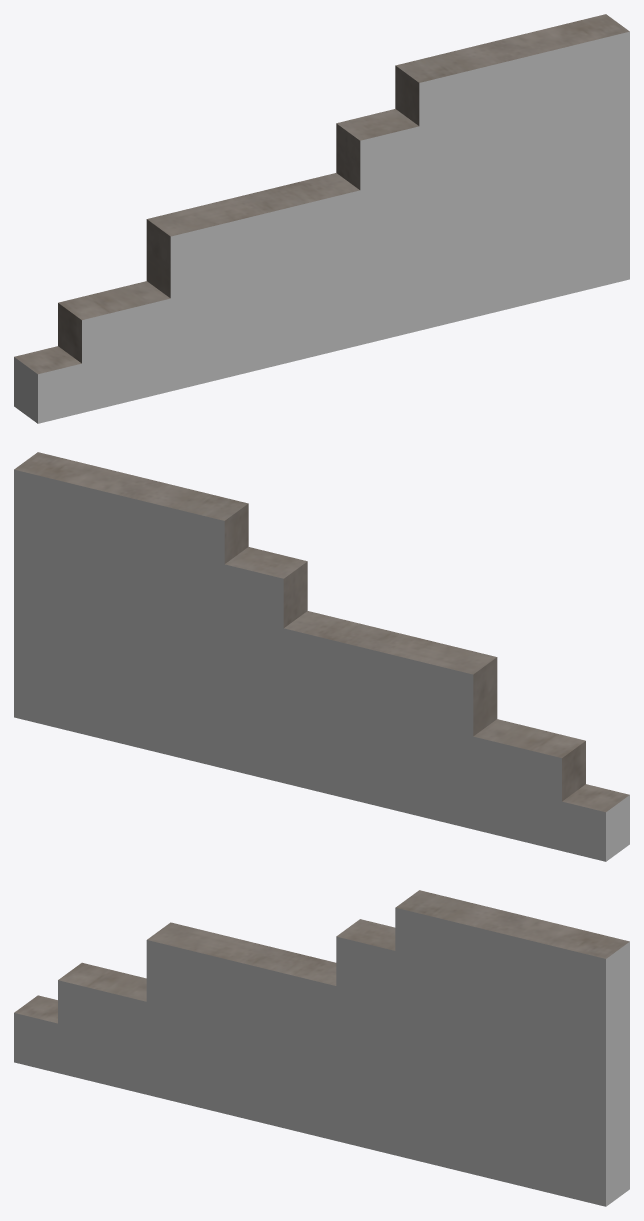
File: wallSteps_typeA.fbx
3 renders of one model, top to bottom at view 1: azimuth 30°, elevation 25°; view 2: azimuth 150°, elevation 25°; view 3: azimuth 330°, elevation 25°, orthographic.
Visible parts, largest first — view 1: wallSteps_typeA; view 2: wallSteps_typeA; view 3: wallSteps_typeA.
Part boxes in pixels (box(x1,y1,x2,y2)): wallSteps_typeA: box(14, 14, 629, 423); wallSteps_typeA: box(14, 452, 629, 861); wallSteps_typeA: box(14, 890, 629, 1206).
Size of the model in its own units: 10 by 4 by 0.7.
